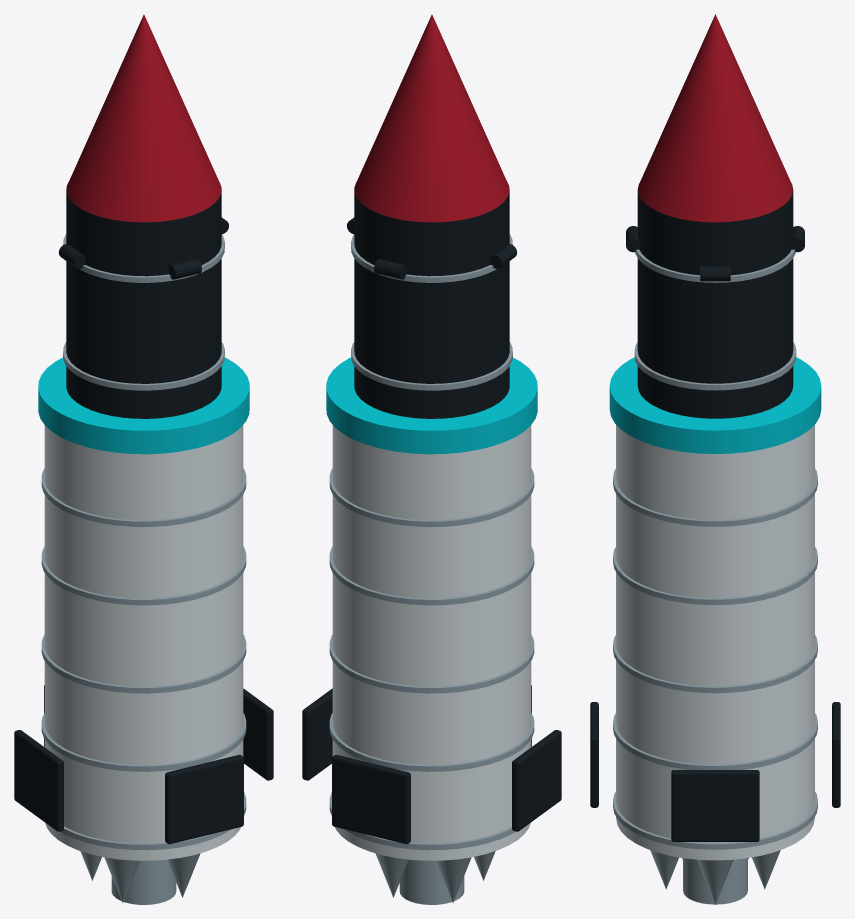
File: asterion.glb
3 renders of one model, left to right at view 1: azimuth 30°, elevation 25°; view 2: azimuth 150°, elevation 25°; view 3: azimuth 270°, elevation 25°, orthographic.
Visible parts, largest first — view 1: meet_mesh__first_stage__propellant_shell, meet_mesh__second_stage__upper_stage, meet_mesh__nose__fairing, meet_mesh__interstage__separation_ring, meet_mesh__grid_fins__fin_2, meet_mesh__grid_fins__fin_3, meet_mesh__grid_fins__fin_1, meet_mesh__engine_cluster__central_engine, meet_mesh__stage_structure__ring_3.05, meet_mesh__stage_structure__ring_2.15, meet_mesh__stage_structure__ring_3.85, meet_mesh__stage_structure__ring_1.35 (+5 smaller); view 2: meet_mesh__first_stage__propellant_shell, meet_mesh__second_stage__upper_stage, meet_mesh__nose__fairing, meet_mesh__interstage__separation_ring, meet_mesh__grid_fins__fin_4, meet_mesh__grid_fins__fin_3, meet_mesh__grid_fins__fin_1, meet_mesh__engine_cluster__central_engine, meet_mesh__stage_structure__ring_3.05, meet_mesh__stage_structure__ring_2.15, meet_mesh__stage_structure__ring_3.85, meet_mesh__stage_structure__ring_1.35 (+5 smaller); view 3: meet_mesh__first_stage__propellant_shell, meet_mesh__second_stage__upper_stage, meet_mesh__nose__fairing, meet_mesh__interstage__separation_ring, meet_mesh__grid_fins__fin_1, meet_mesh__engine_cluster__central_engine, meet_mesh__stage_structure__ring_3.85, meet_mesh__stage_structure__ring_3.05, meet_mesh__stage_structure__ring_2.15, meet_mesh__stage_structure__ring_1.35, meet_mesh__stage_structure__ring_0.55, meet_mesh__stage_structure__ring_5.15 (+6 smaller).
Part boxes in pixels (left/top/right/bottom): meet_mesh__first_stage__propellant_shell: left=44, top=425, right=243, bottom=860; meet_mesh__second_stage__upper_stage: left=66, top=182, right=221, bottom=418; meet_mesh__nose__fairing: left=66, top=14, right=221, bottom=222; meet_mesh__interstage__separation_ring: left=38, top=357, right=249, bottom=454; meet_mesh__grid_fins__fin_2: left=165, top=754, right=243, bottom=844; meet_mesh__grid_fins__fin_3: left=14, top=730, right=63, bottom=831; meet_mesh__grid_fins__fin_1: left=243, top=688, right=273, bottom=780; meet_mesh__engine_cluster__central_engine: left=111, top=859, right=176, bottom=904; meet_mesh__stage_structure__ring_3.05: left=41, top=546, right=246, bottom=605; meet_mesh__stage_structure__ring_2.15: left=41, top=634, right=246, bottom=693; meet_mesh__stage_structure__ring_3.85: left=41, top=468, right=246, bottom=526; meet_mesh__stage_structure__ring_1.35: left=41, top=713, right=246, bottom=771; meet_mesh__first_stage__propellant_shell: left=332, top=425, right=531, bottom=860; meet_mesh__second_stage__upper_stage: left=354, top=182, right=509, bottom=418; meet_mesh__nose__fairing: left=354, top=14, right=509, bottom=222; meet_mesh__interstage__separation_ring: left=326, top=357, right=537, bottom=454; meet_mesh__grid_fins__fin_4: left=332, top=754, right=410, bottom=844; meet_mesh__grid_fins__fin_3: left=512, top=730, right=561, bottom=831; meet_mesh__grid_fins__fin_1: left=302, top=688, right=332, bottom=780; meet_mesh__engine_cluster__central_engine: left=399, top=859, right=464, bottom=904; meet_mesh__stage_structure__ring_3.05: left=329, top=546, right=534, bottom=605; meet_mesh__stage_structure__ring_2.15: left=329, top=634, right=534, bottom=693; meet_mesh__stage_structure__ring_3.85: left=329, top=468, right=534, bottom=526; meet_mesh__stage_structure__ring_1.35: left=329, top=713, right=534, bottom=771; meet_mesh__first_stage__propellant_shell: left=616, top=425, right=814, bottom=860; meet_mesh__second_stage__upper_stage: left=637, top=183, right=793, bottom=418; meet_mesh__nose__fairing: left=638, top=14, right=792, bottom=222; meet_mesh__interstage__separation_ring: left=609, top=357, right=821, bottom=453; meet_mesh__grid_fins__fin_1: left=671, top=770, right=759, bottom=841; meet_mesh__engine_cluster__central_engine: left=683, top=858, right=747, bottom=904; meet_mesh__stage_structure__ring_3.85: left=613, top=468, right=817, bottom=526; meet_mesh__stage_structure__ring_3.05: left=613, top=547, right=817, bottom=605; meet_mesh__stage_structure__ring_2.15: left=613, top=635, right=817, bottom=693; meet_mesh__stage_structure__ring_1.35: left=613, top=713, right=817, bottom=769; meet_mesh__stage_structure__ring_0.55: left=613, top=791, right=817, bottom=849; meet_mesh__stage_structure__ring_5.15: left=634, top=342, right=796, bottom=390.
Bounding box in the file's own units: 2.32 × 8.96 × 2.32.
